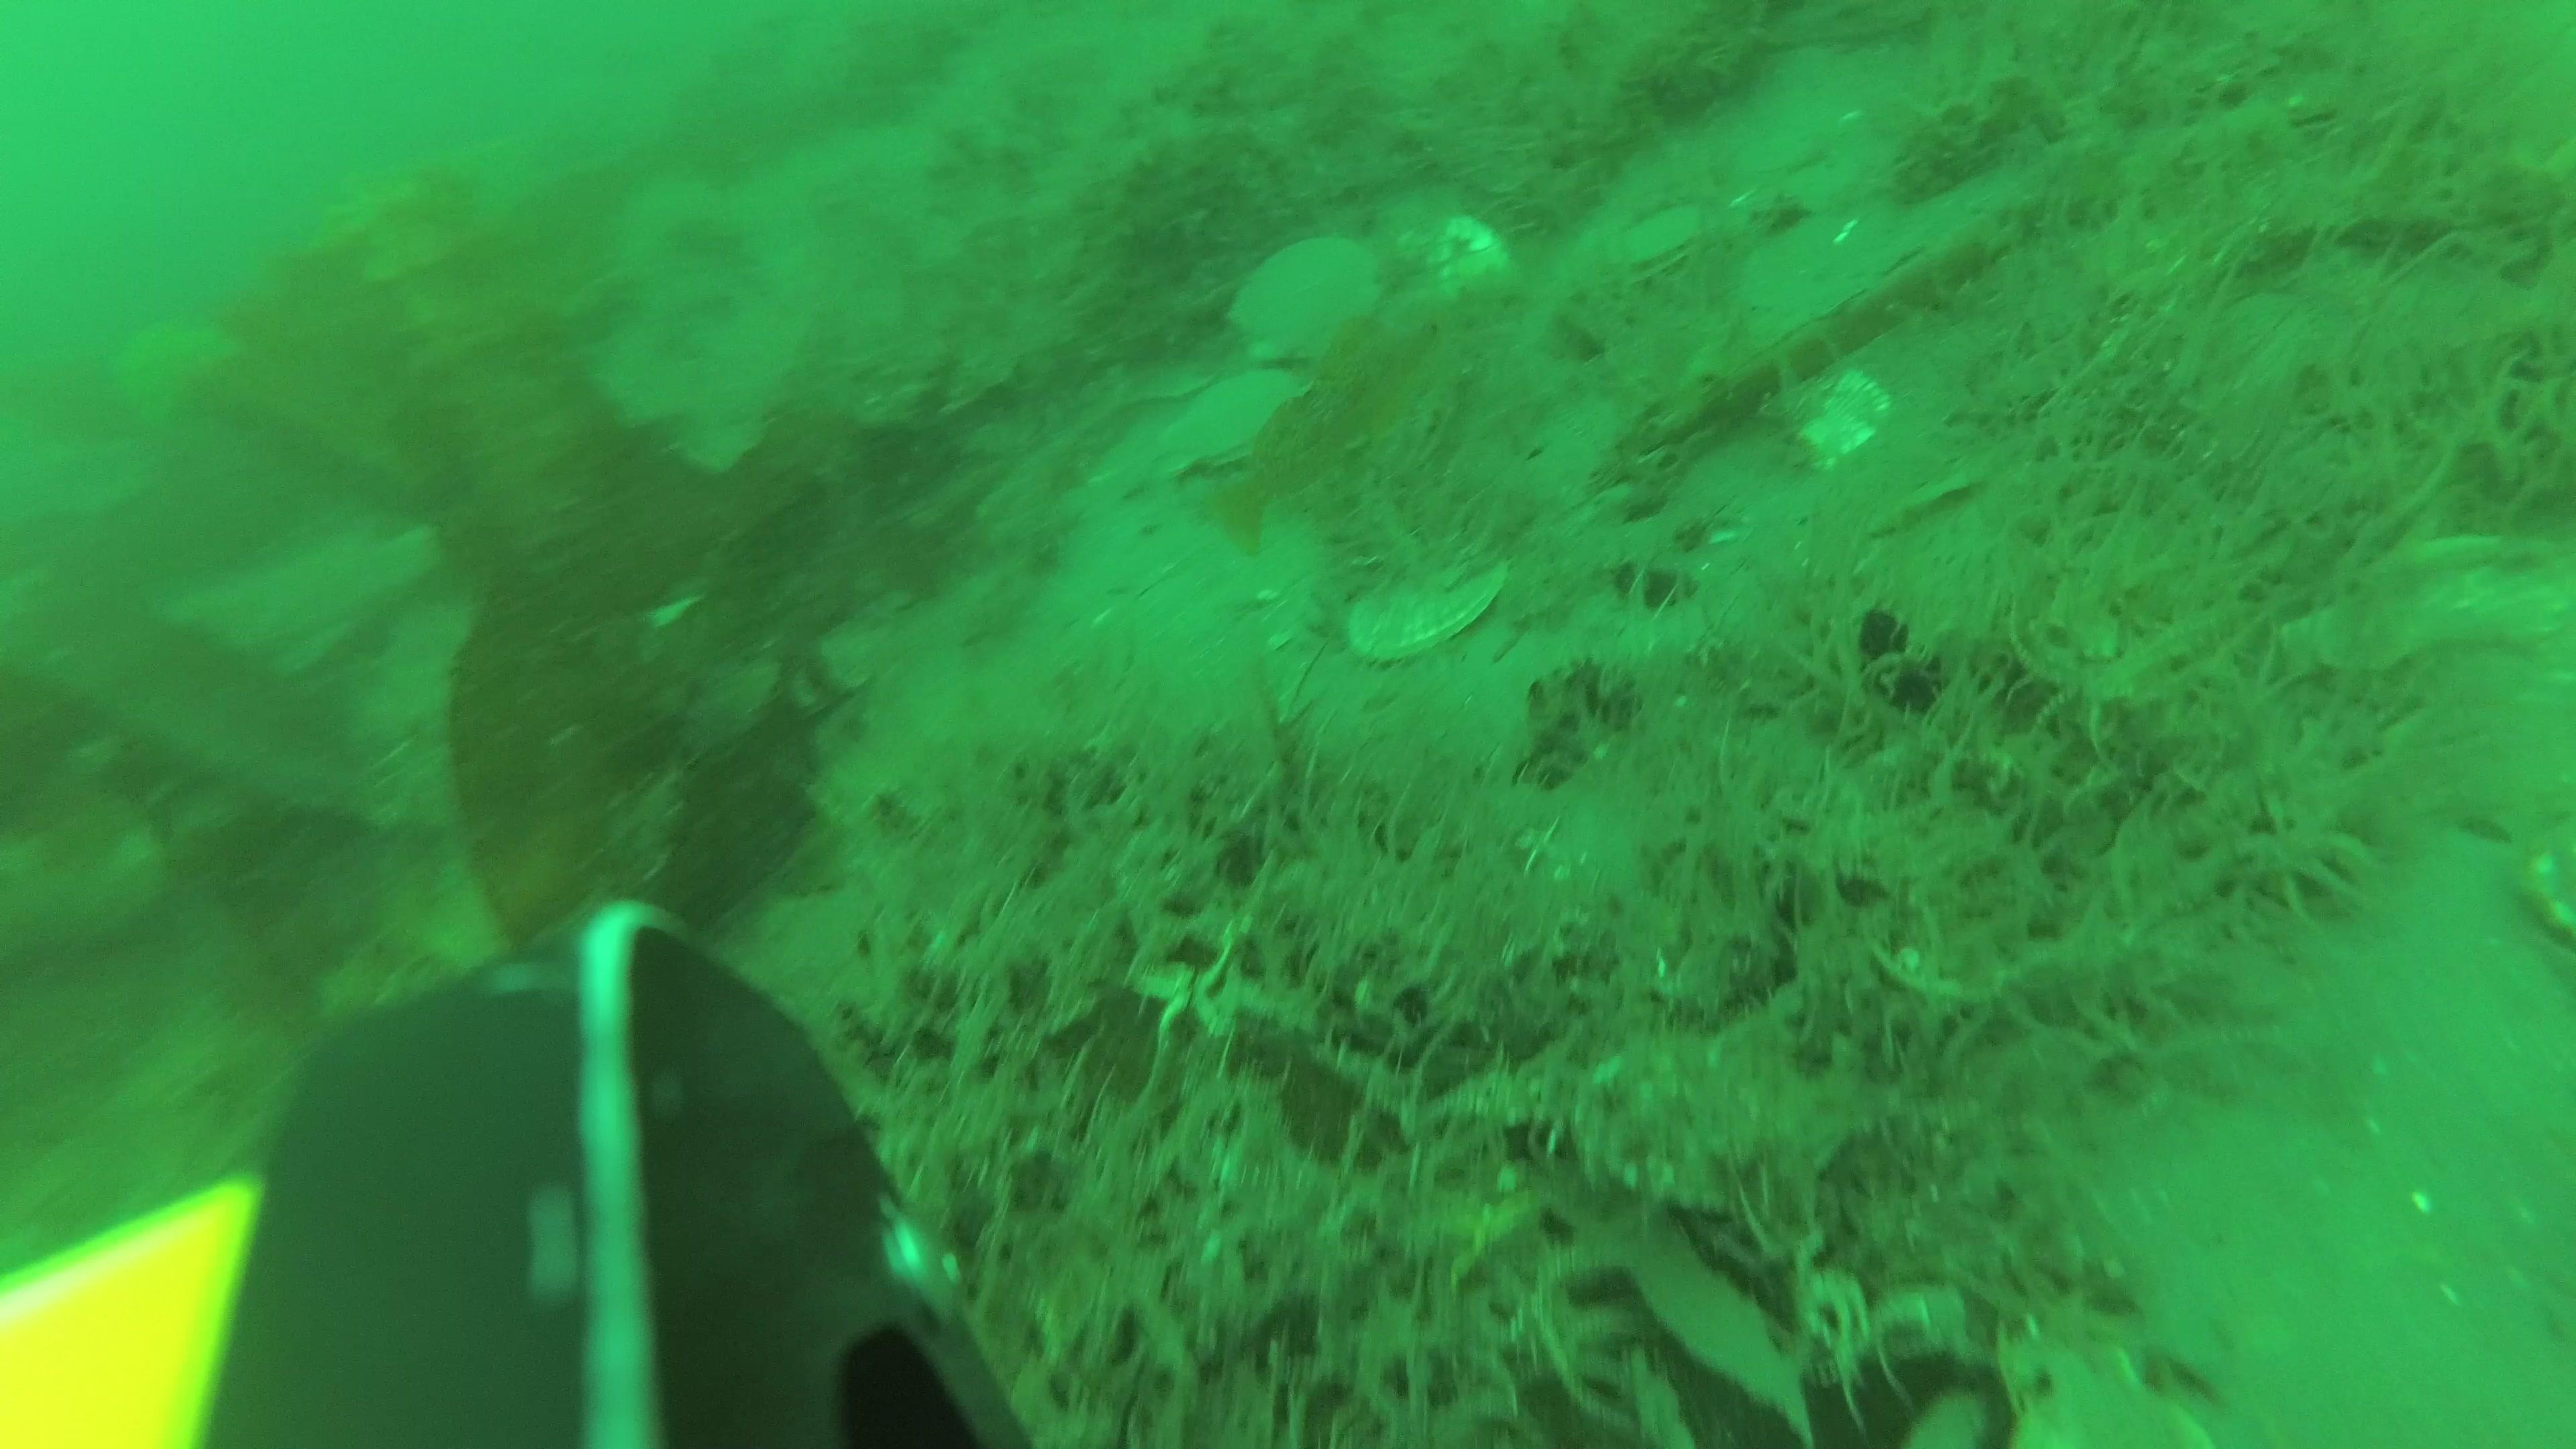scallop: (1359, 540, 1509, 658), (1224, 234, 1378, 349), (1171, 375, 1306, 464), (1796, 363, 1888, 464), (1610, 211, 1729, 288), (1408, 219, 1513, 304)
